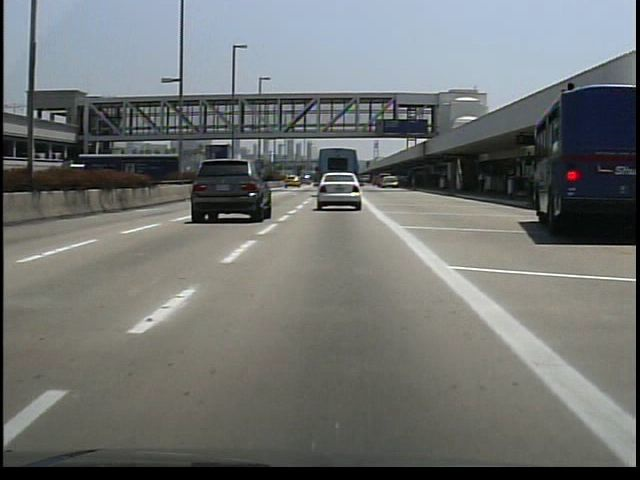person: (471, 164, 492, 201)
